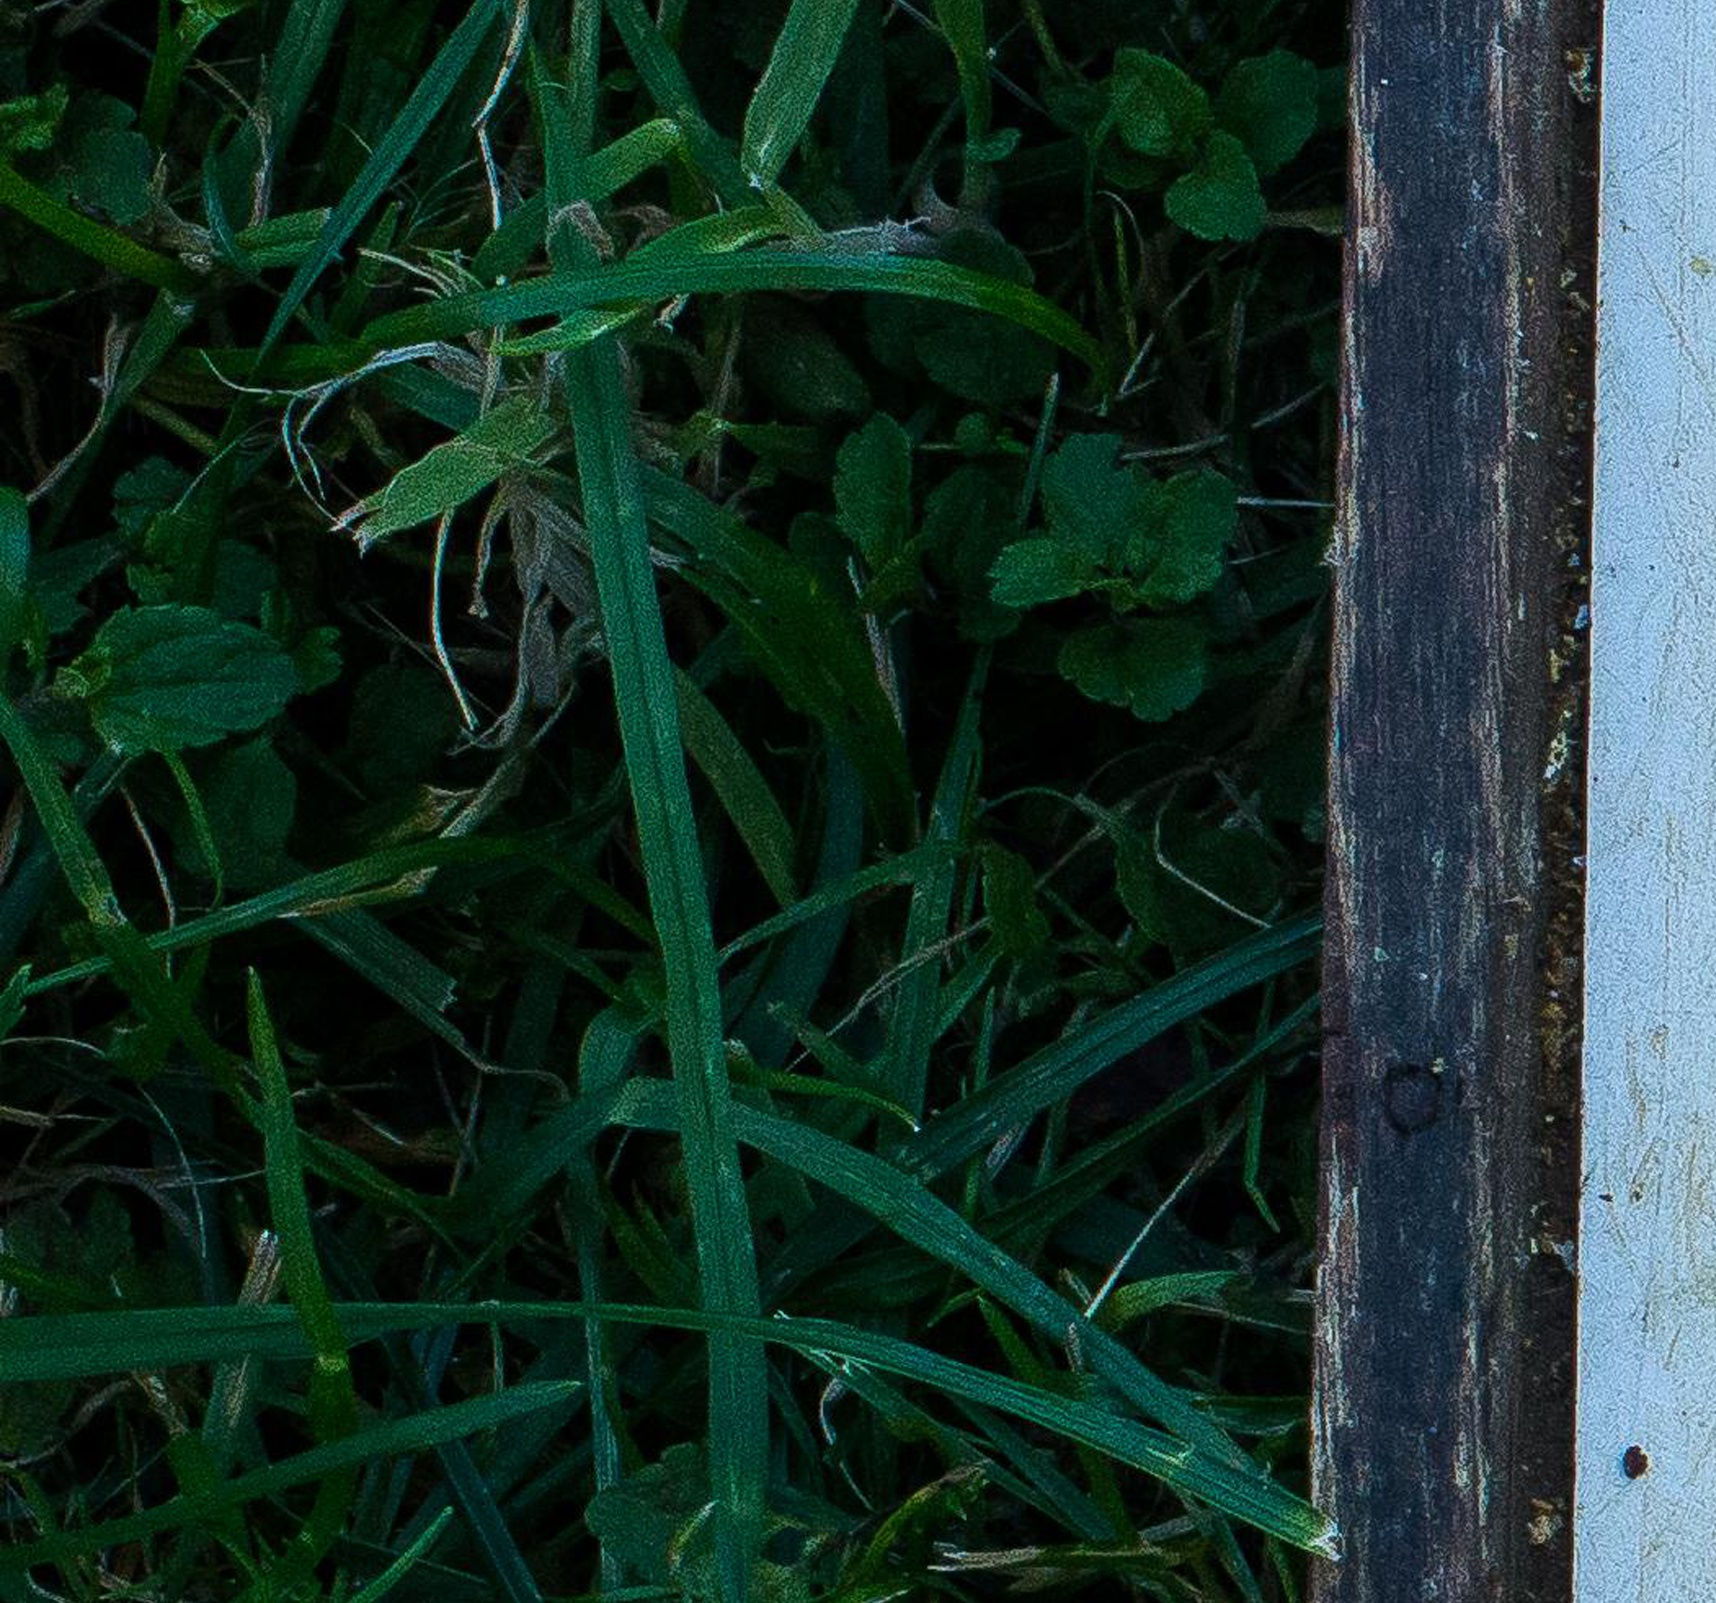Varroa: (1614, 1440, 1660, 1487)
